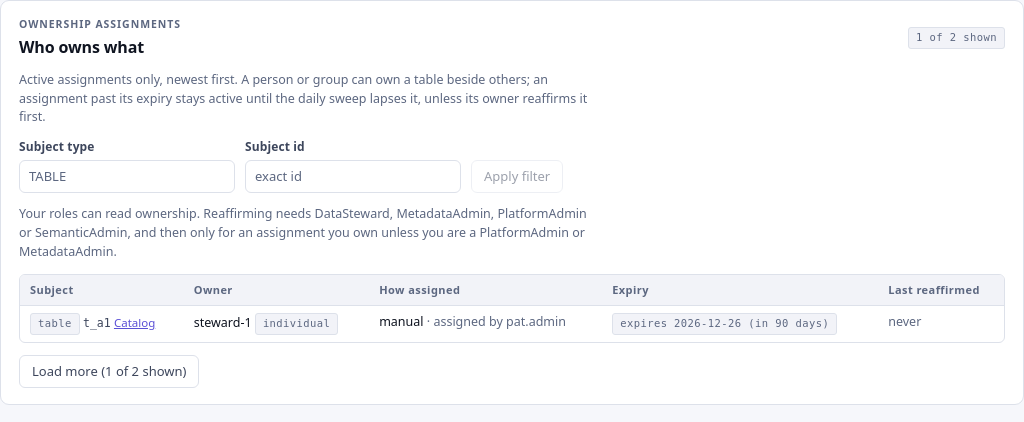
Ownership assignments: paging › says the next page could not be loaded and keeps what is already shown
The image size is (1024, 422).
What coordinates should you click on to do the following:
click the button "Load more (1 of 2 shown)"
I would click on:
 (109, 372)
Its box is [19,355,200,388].
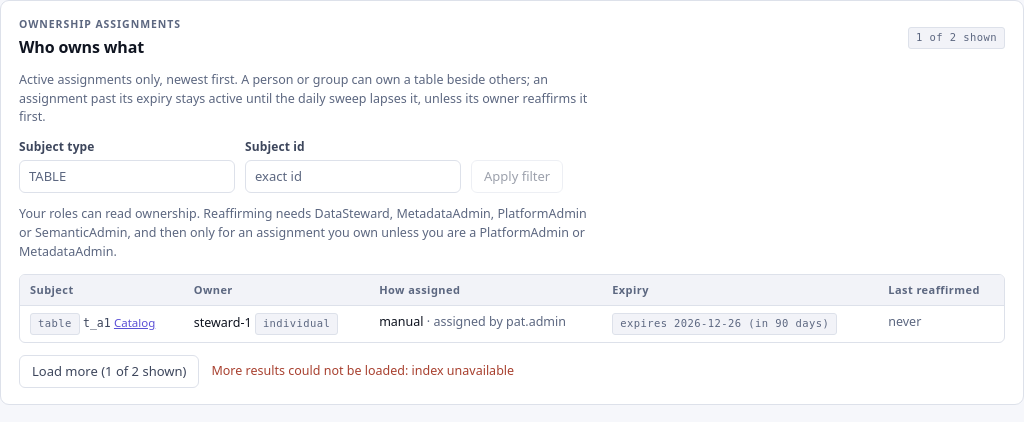
Expected: the text "t_a1" is shown, [83,316,111,330]
Result: the text "More results could not be loaded: index unavailable" is shown at [212,362,514,381]
